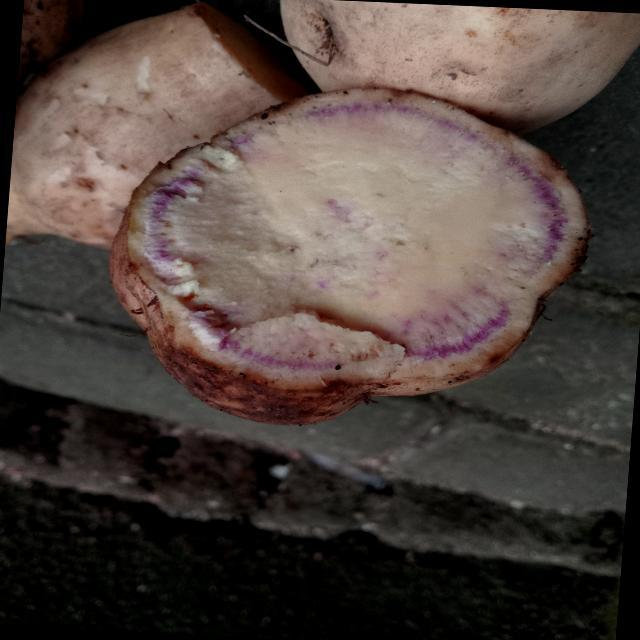Healthy Sweet Potato: (110, 90, 590, 422)
